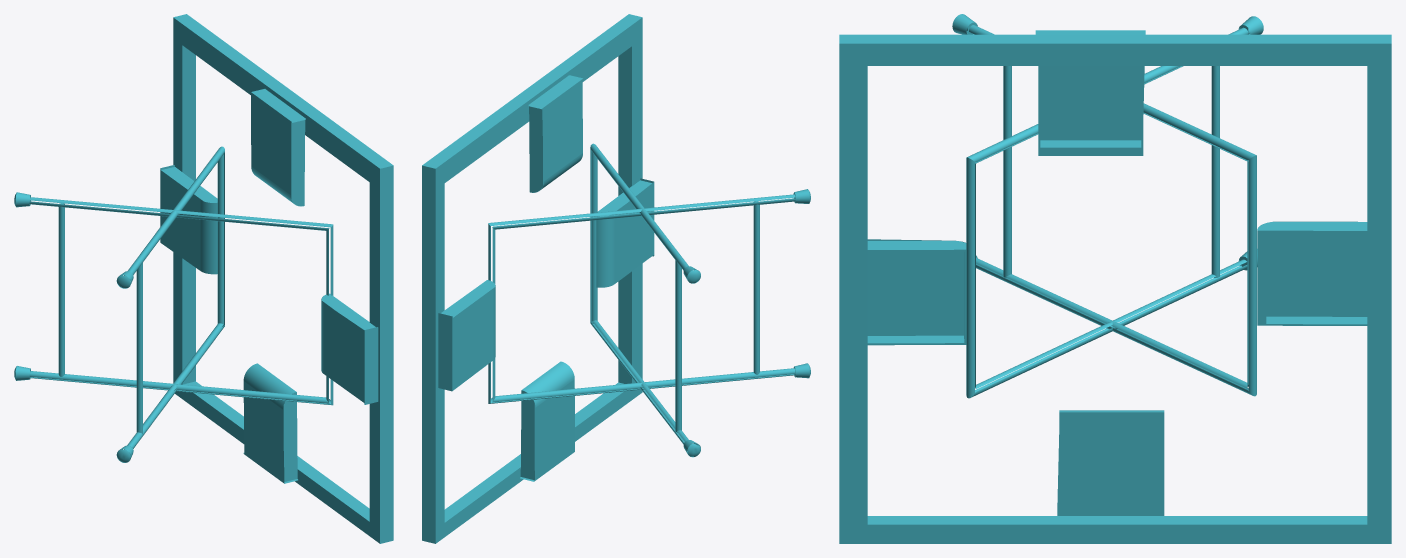
3 views of the same model, side by side, from view 1: azimuth 30°, elevation 25°; view 2: azimuth 150°, elevation 25°; view 3: azimuth 270°, elevation 25° (orthographic). The views are drawn at different scales.
Visible parts, largest first — view 1: Renderer Node; view 2: Renderer Node; view 3: Renderer Node.
Part boxes in pixels (x1,y1,x2,y2): Renderer Node: [14, 14, 393, 543]; Renderer Node: [422, 14, 810, 543]; Renderer Node: [839, 14, 1391, 543].
Size of the model in its own units: 0.4116 by 0.6444 by 0.6444.
1 material, 1 textured.
